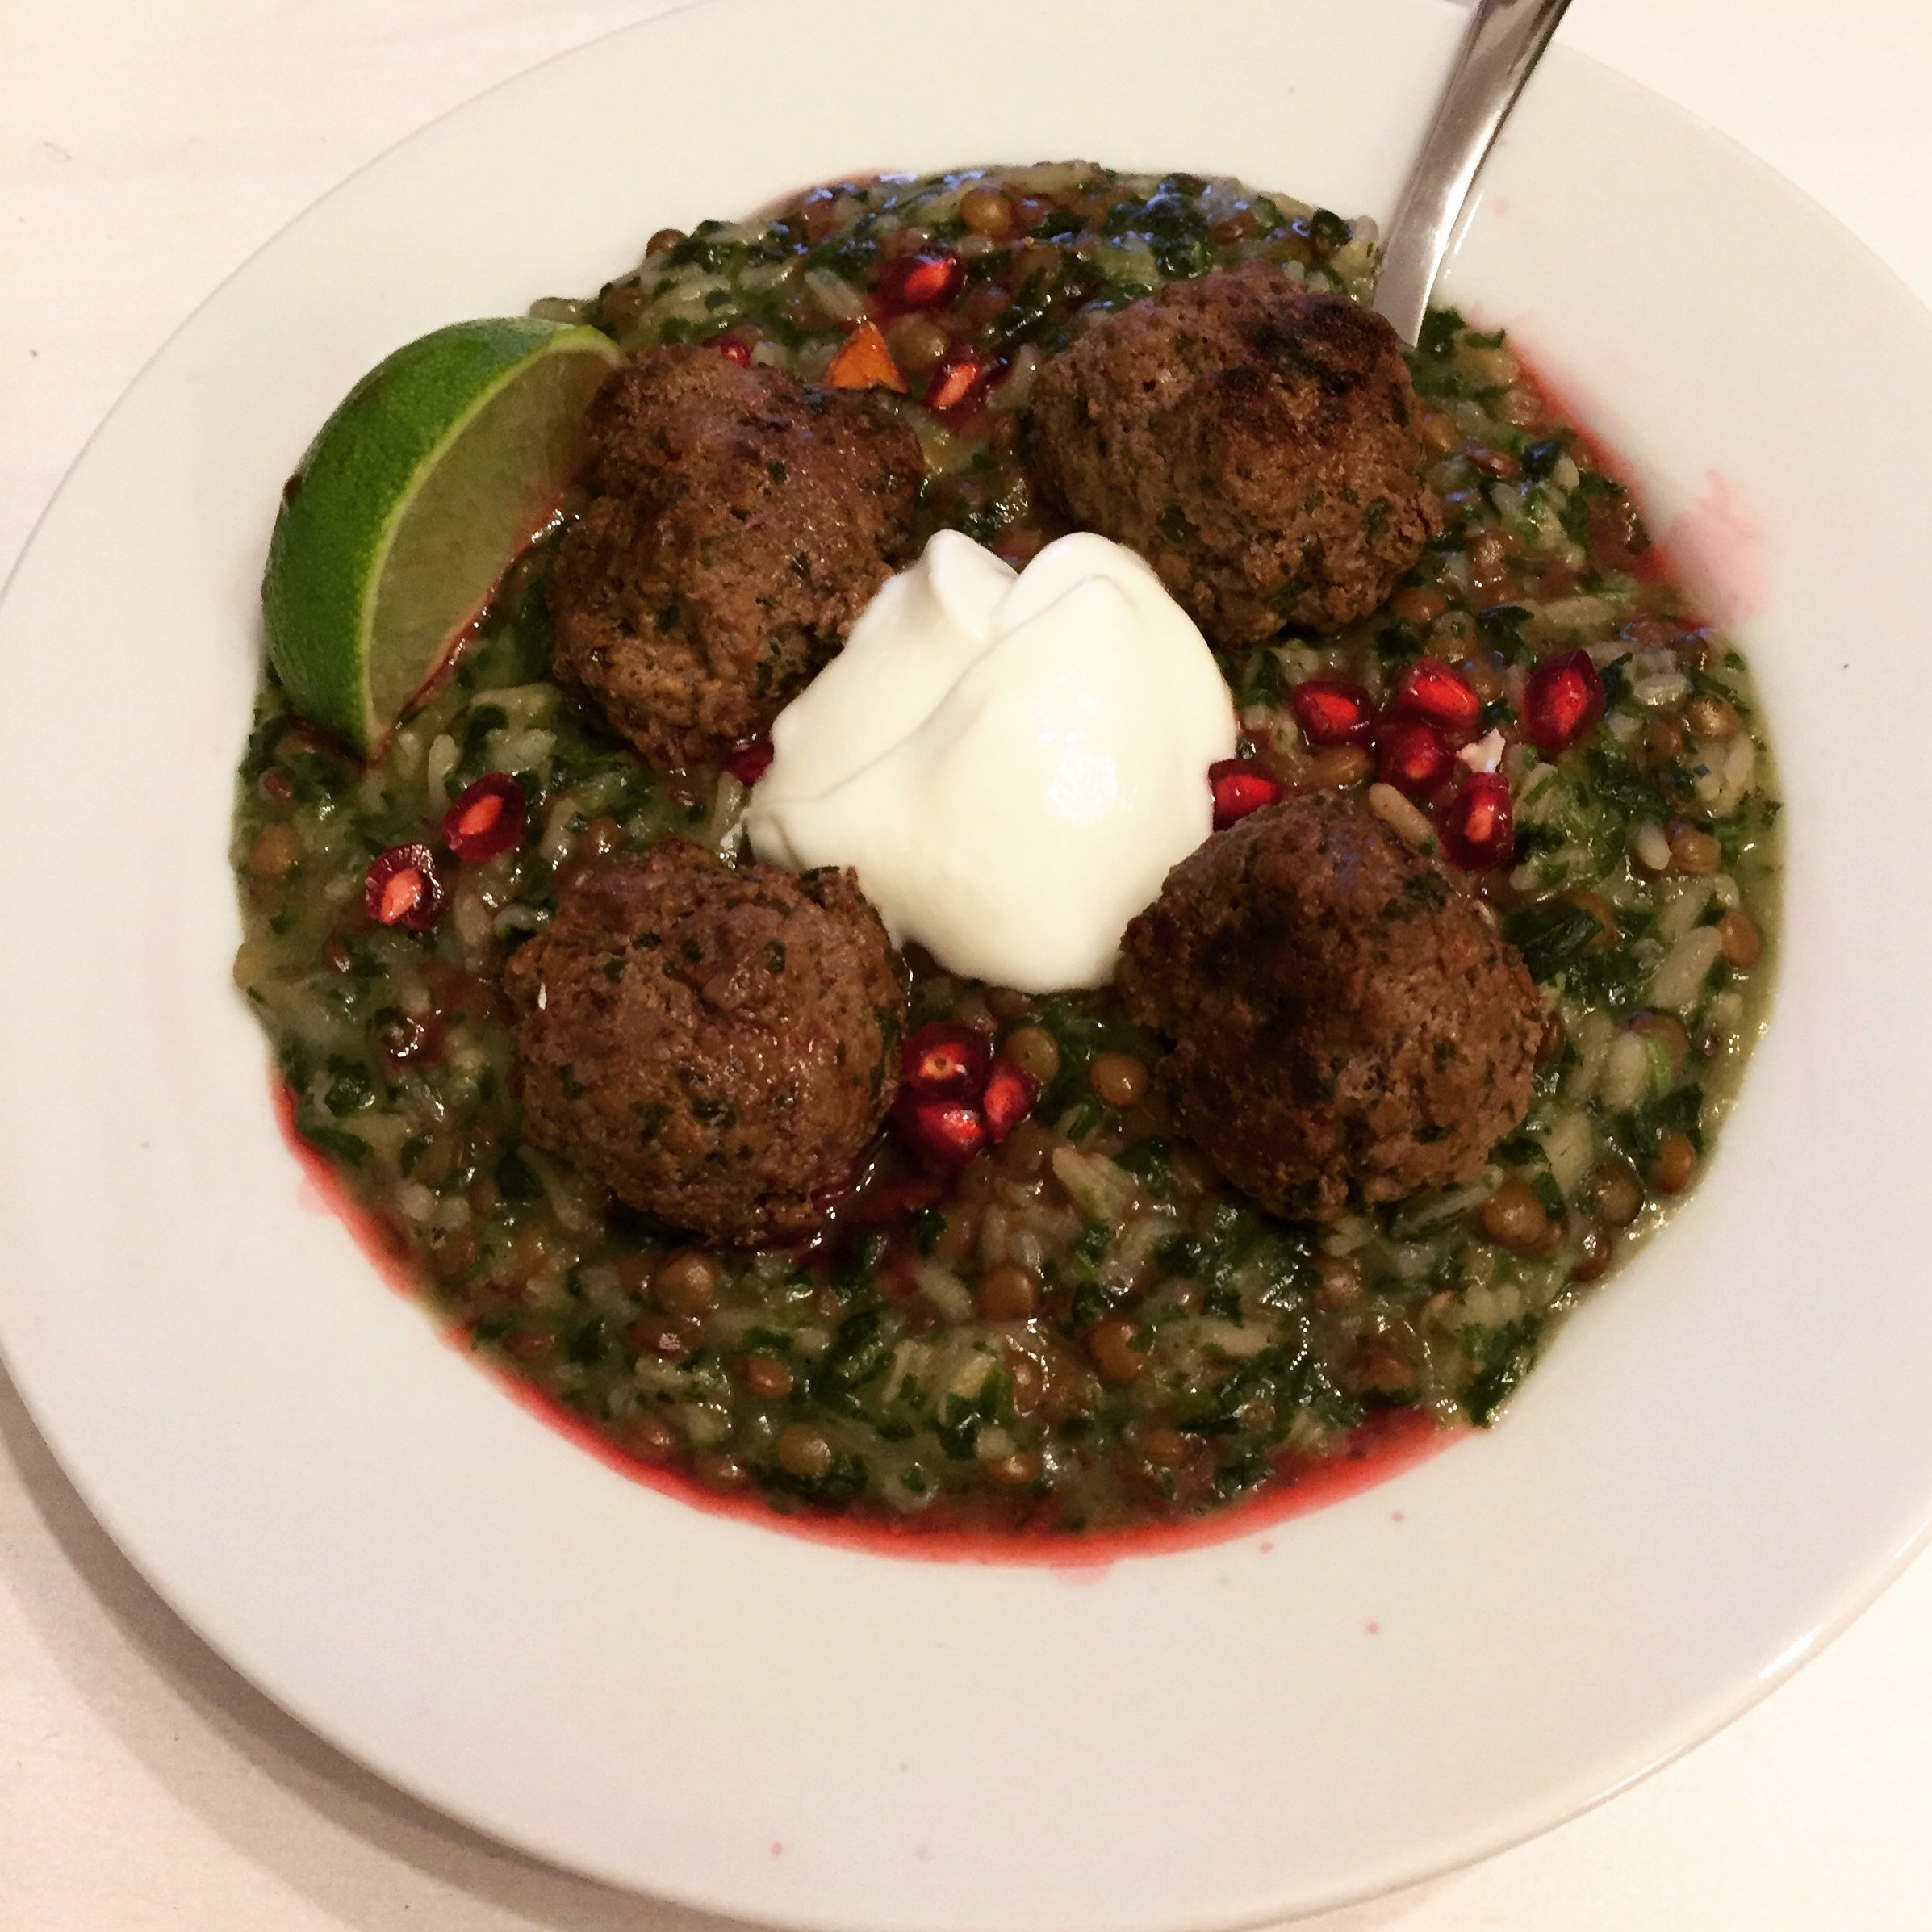meatballs: (1141, 870, 1596, 1138), (1005, 301, 1435, 568), (582, 361, 865, 718), (522, 885, 839, 1187)
